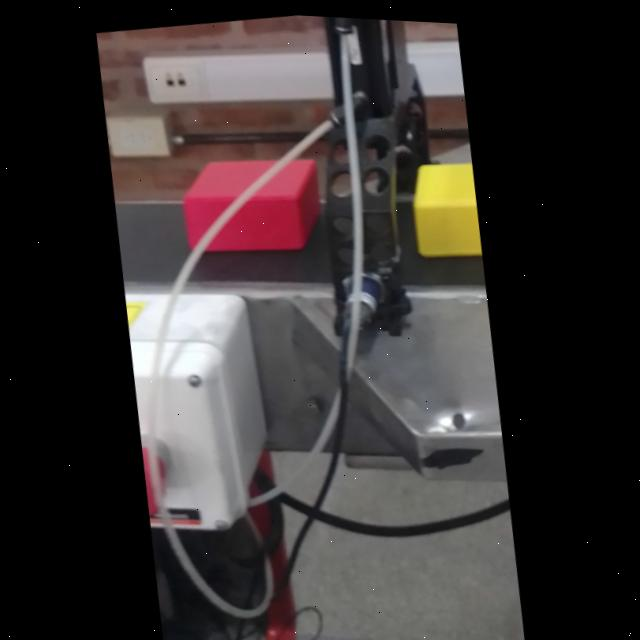redBox: (170, 135, 343, 271)
yellowBox: (394, 141, 488, 274)
